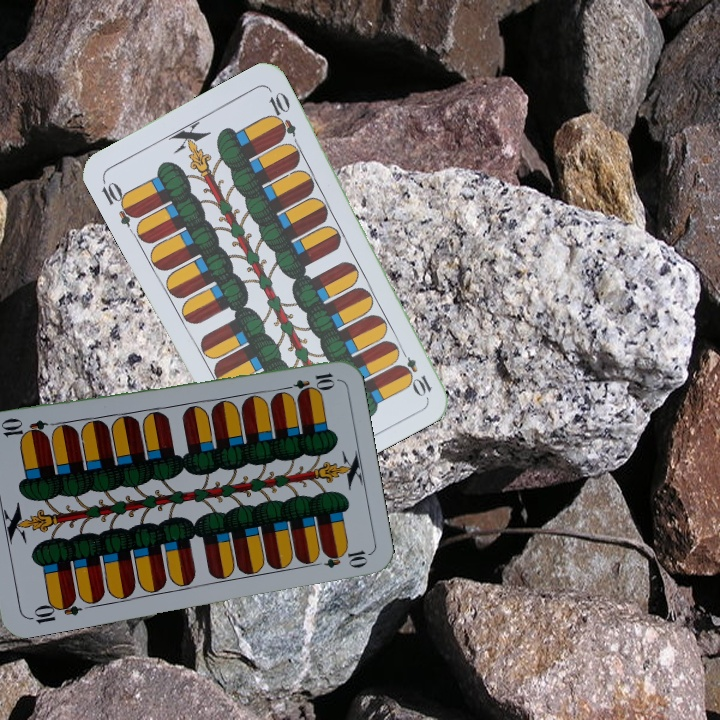E10: (97, 175, 141, 229), (394, 343, 435, 399), (24, 593, 83, 627), (278, 368, 337, 395)
